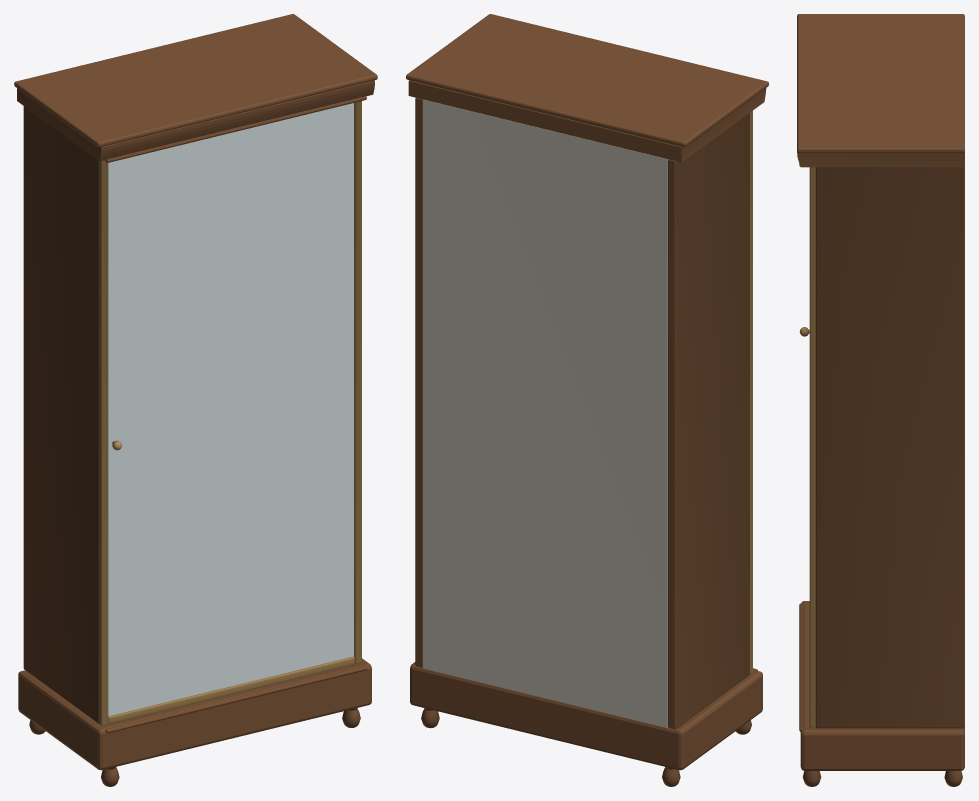
The model's file is displayCabinet.glb.
The picture shows the model from 3 angles, left to right: view 1: azimuth 30°, elevation 25°; view 2: azimuth 150°, elevation 25°; view 3: azimuth 270°, elevation 25°; orthographic projection.
Parts seen in each view (by area): view 1: door, cabinet; view 2: cabinet, door; view 3: cabinet, door.
Boxes of the visible parts, left/top/right/bottom form: door: left=99, top=101, right=361, bottom=725; cabinet: left=14, top=14, right=377, bottom=786; cabinet: left=406, top=14, right=768, bottom=786; door: left=750, top=111, right=752, bottom=674; cabinet: left=797, top=14, right=964, bottom=786; door: left=799, top=167, right=815, bottom=728.
Bounding box in the file's own units: 0.86 × 1.91 × 0.45.
